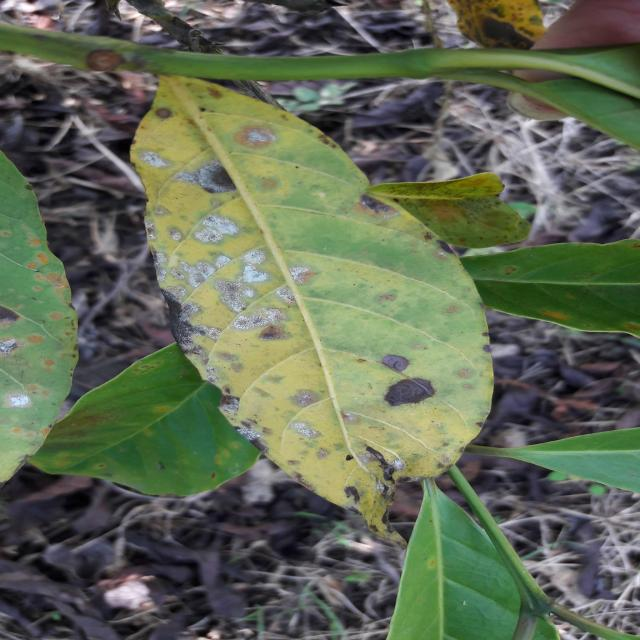Enfermedad-Roya: (128, 77, 496, 542)
